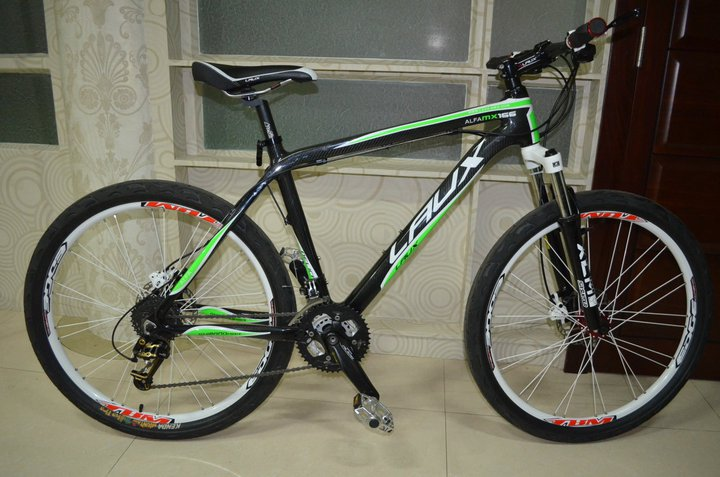bicycle: (22, 17, 717, 451)
